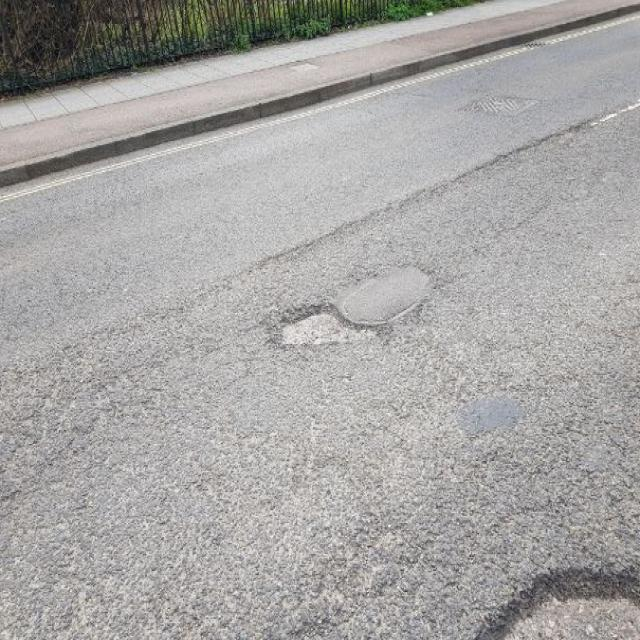pothole: (472, 556, 640, 638), (270, 294, 386, 350)
